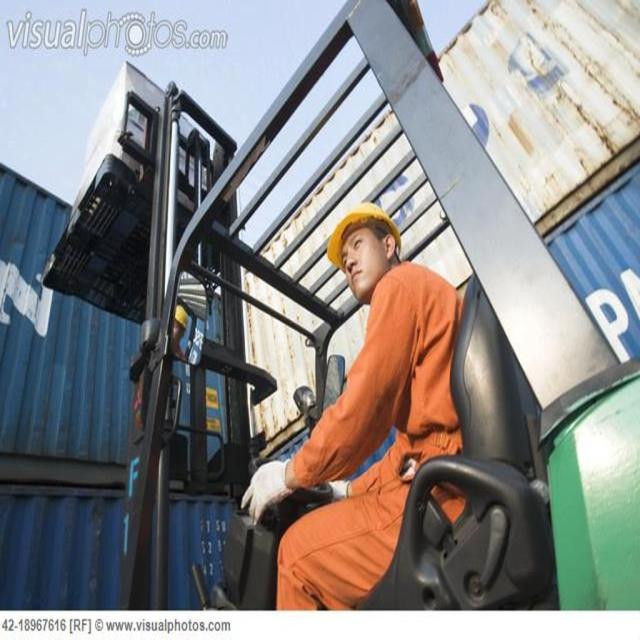Face: (332, 225, 386, 308)
